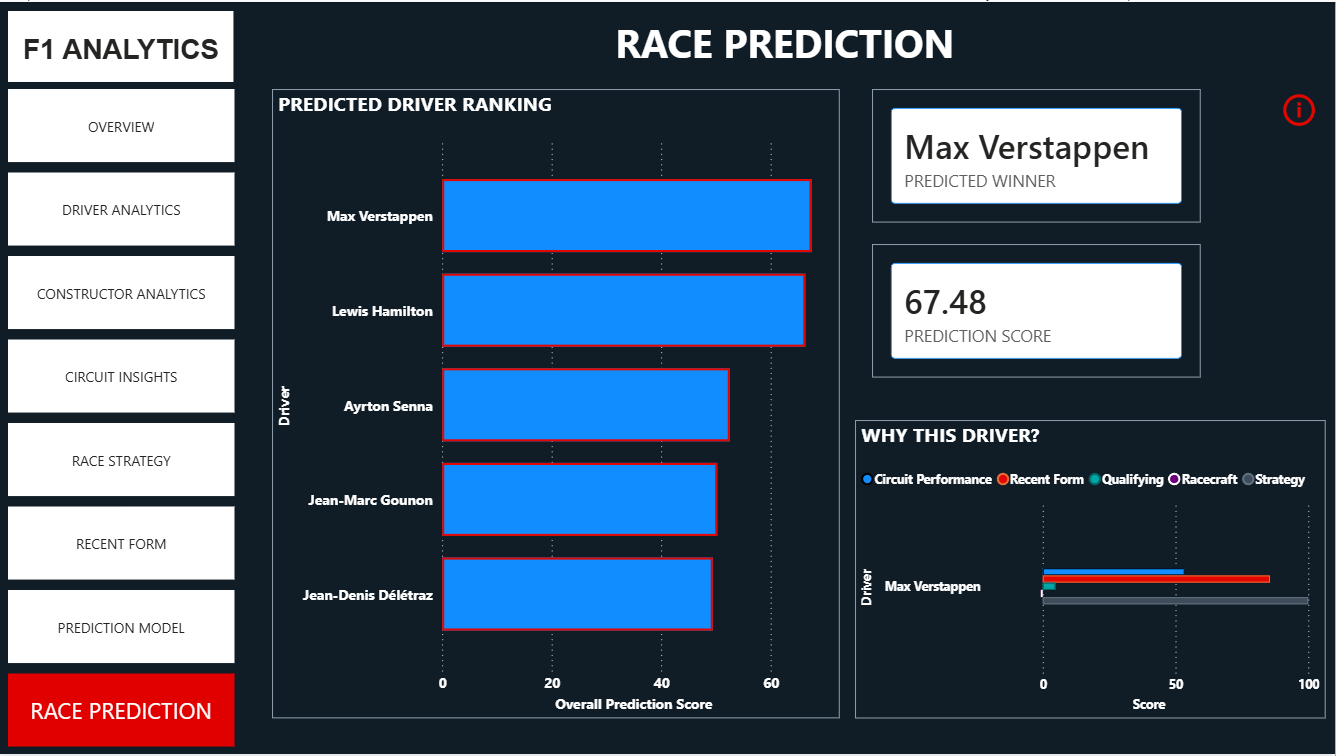

The page's visual inventory and layout, read from the dashboard file:
{"tool":"powerbi","page":{"name":"RACE PREDICTION","canvas":[1280,720],"ordinal":7},"visuals":[{"type":"clusteredBarChart","title":"PREDICTED DRIVER RANKING","fields":{"Category":["drivers_clean.driverName"],"Y":["results_clean.Overall Prediction Score"]},"box":[261.6,83.4,544.2,602.6],"z":0},{"type":"cardVisual","fields":{"Data":["results_clean.Predicted Winner"]},"box":[836.8,83.4,315.2,128],"z":1000},{"type":"cardVisual","fields":{"Data":["results_clean.Predicted Winner Score"]},"box":[836.8,231.8,315.2,128.2],"z":2000},{"type":"textbox","box":[8.2,8.2,216.4,68.2],"z":3000},{"type":"pageNavigator","title":"              F1 ANALYTICS","box":[8.2,83.6,217.3,635.5],"z":4000},{"type":"textbox","box":[234.5,8.2,1036.4,68.2],"z":5000},{"type":"clusteredBarChart","title":"WHY THIS DRIVER?","fields":{"Category":["drivers_clean.driverName"],"Y":["results_clean.Circuit Performance Score","results_clean.Recent Form Score","qualifying_clean.Circuit Avg Qualifying Position","results_clean.Average Position Gain","results_clean.Strategy Score"]},"box":[820.1,400.5,451.3,285.5],"z":8000},{"type":"actionButton","box":[1225.8,83.4,44.8,40.4],"z":9000}]}

Visuals, with their boxes in screenshot pixels (x1, y1, x2, y2), scaled from the page's 1280x720 canvas onto the 1336x756 screenshot:
"PREDICTED DRIVER RANKING" clusteredBarChart: [273, 88, 841, 720]
cardVisual - results_clean.Predicted Winner: [873, 88, 1202, 222]
cardVisual - results_clean.Predicted Winner Score: [873, 243, 1202, 378]
textbox: [9, 9, 234, 80]
"              F1 ANALYTICS" pageNavigator: [9, 88, 235, 755]
textbox: [245, 9, 1327, 80]
"WHY THIS DRIVER?" clusteredBarChart: [856, 421, 1327, 720]
actionButton: [1279, 88, 1326, 130]
